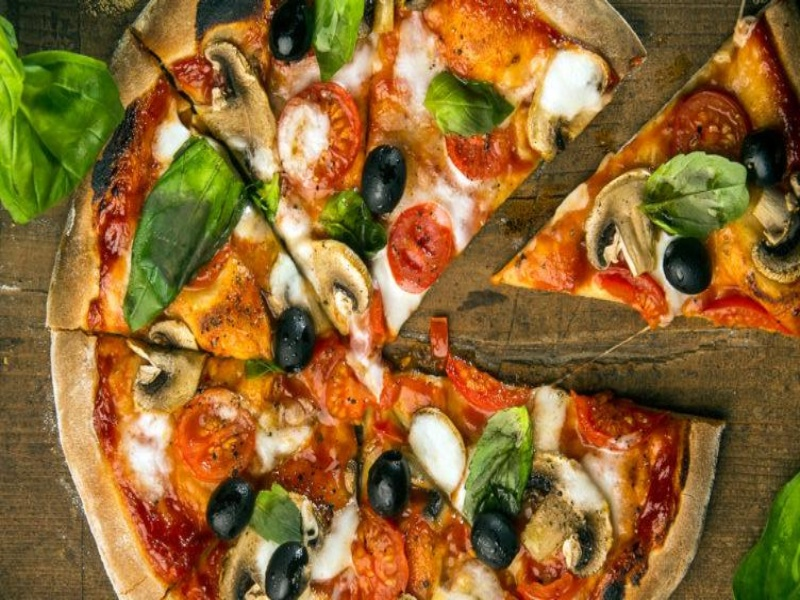champignon: (523, 447, 623, 578), (202, 41, 288, 162), (583, 168, 666, 278), (126, 314, 207, 418), (744, 182, 800, 293), (314, 239, 381, 318)
olive: (465, 473, 531, 577), (728, 111, 800, 203), (262, 299, 329, 385), (199, 461, 266, 546), (350, 142, 420, 220), (650, 234, 733, 299), (254, 1, 326, 71), (364, 447, 421, 522), (257, 537, 320, 600)
